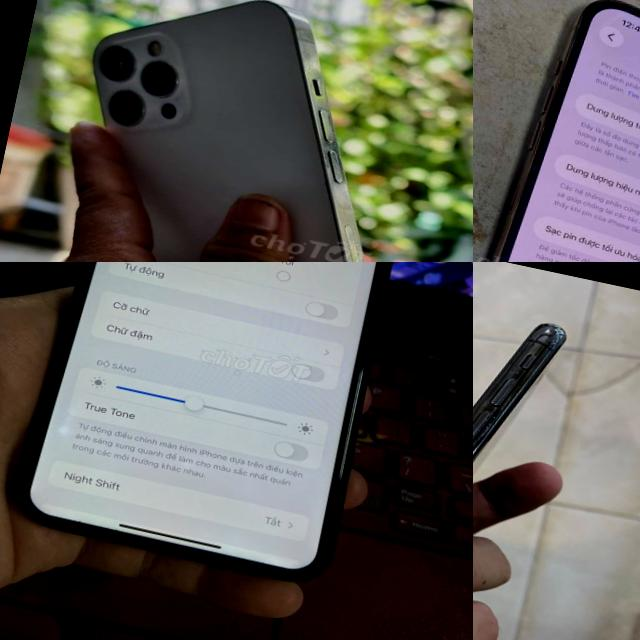gen_11: (11, 262, 421, 586), (473, 275, 577, 640)
gen_12_13: (16, 0, 473, 262), (473, 0, 640, 262)
scratch: (482, 337, 546, 414), (473, 397, 504, 476)
